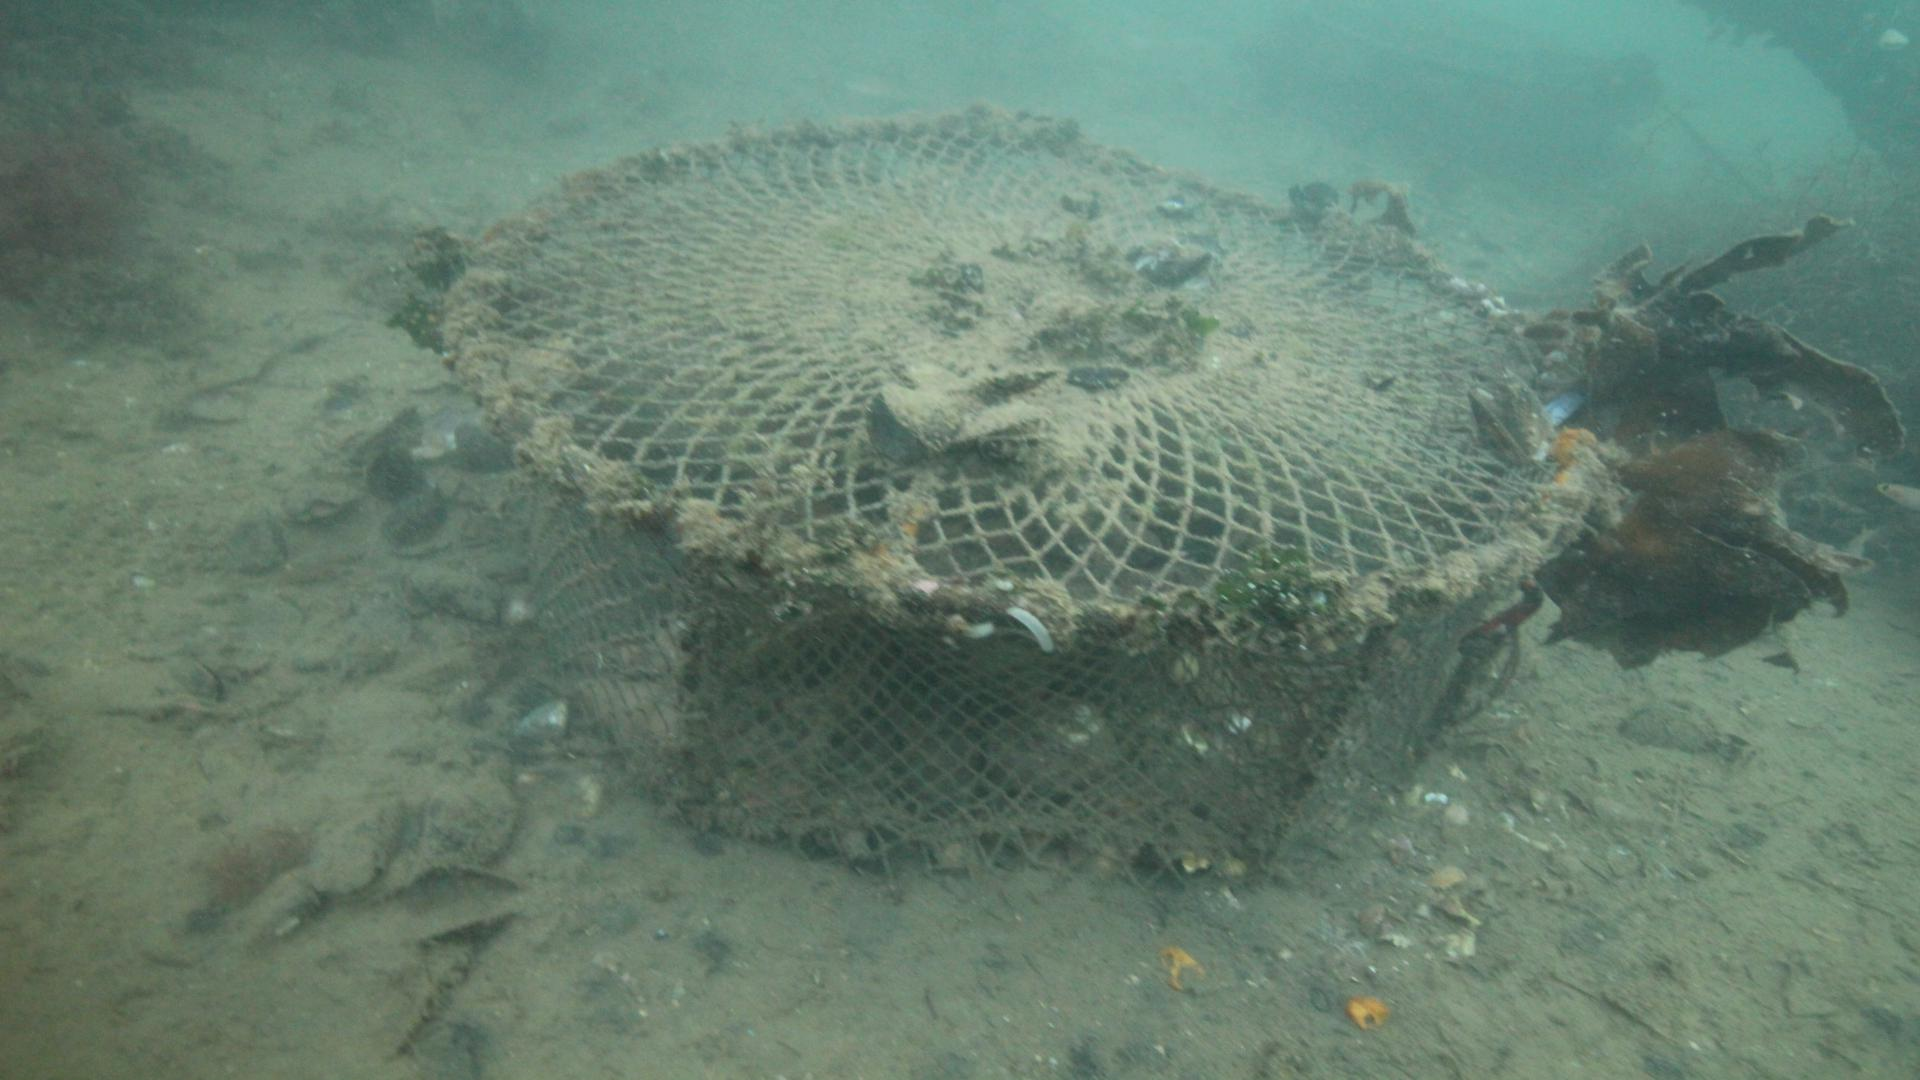circular fish trap: (436, 98, 1606, 895)
